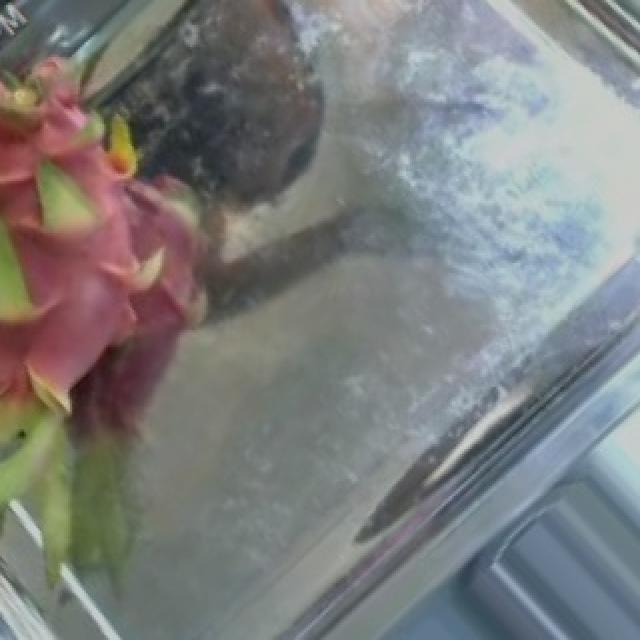fruit: (0, 8, 310, 429)
